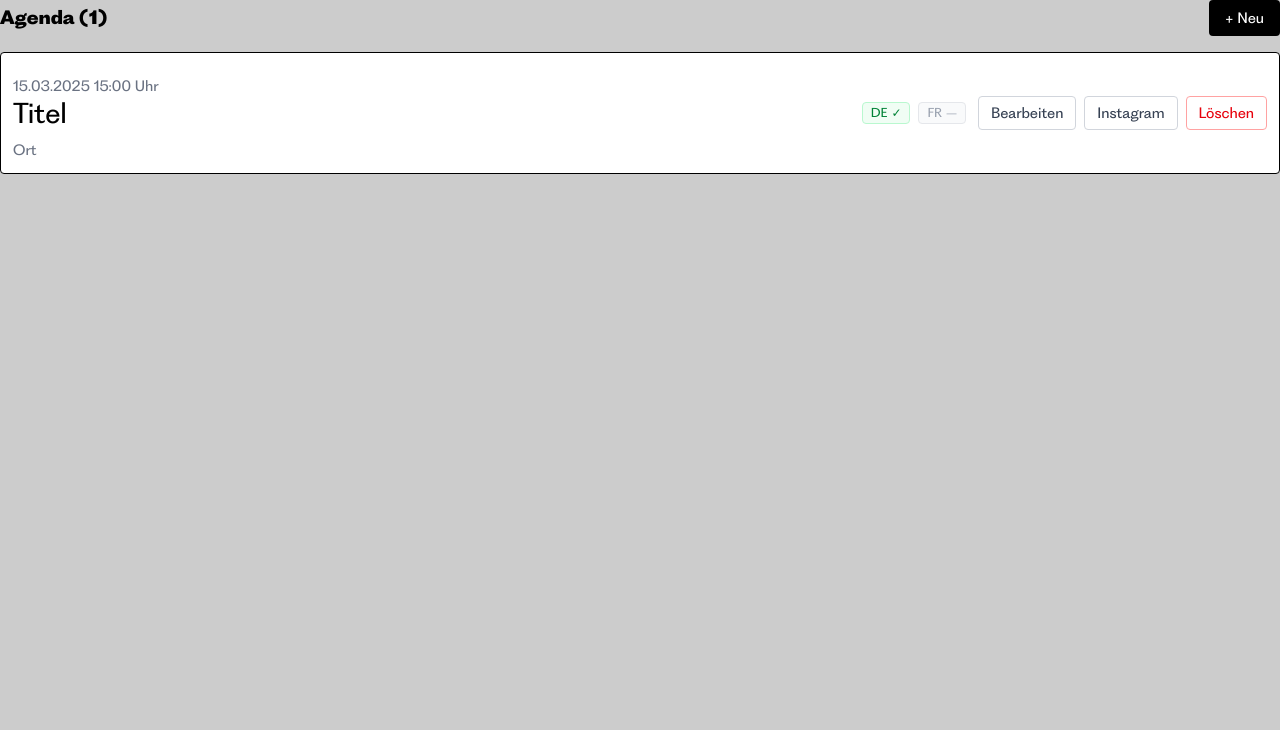
it: AgendaSection — native date/time picker (DK-5, DK-6) › canonical row roundtrips into picker value (ISO form)
What coordinates should you click on to do the following:
click the button "Bearbeiten"
I would click on:
 (1027, 113)
Its box is [978, 96, 1076, 130].
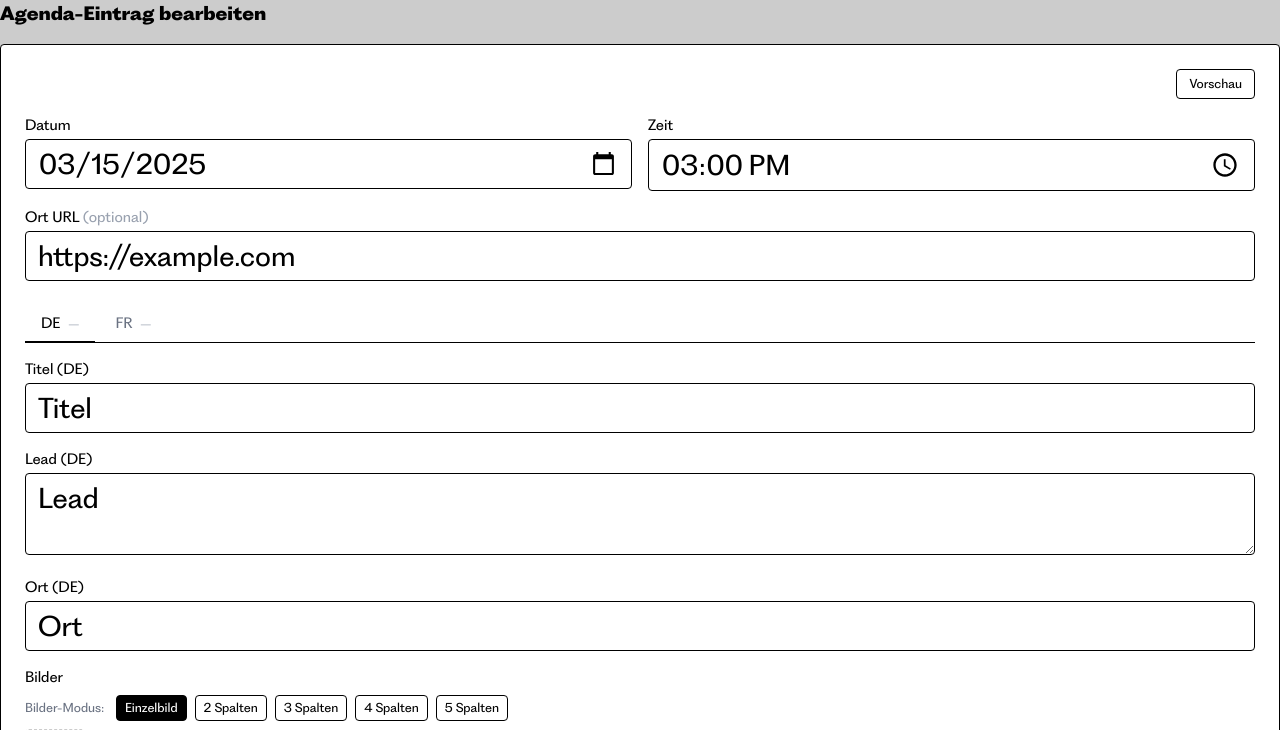
Expected: the date field labelled "Datum" holds "2025-03-15", [25, 139, 632, 189]
Expected: the time field labelled "Zeit" holds "15:00", [648, 139, 1255, 191]
